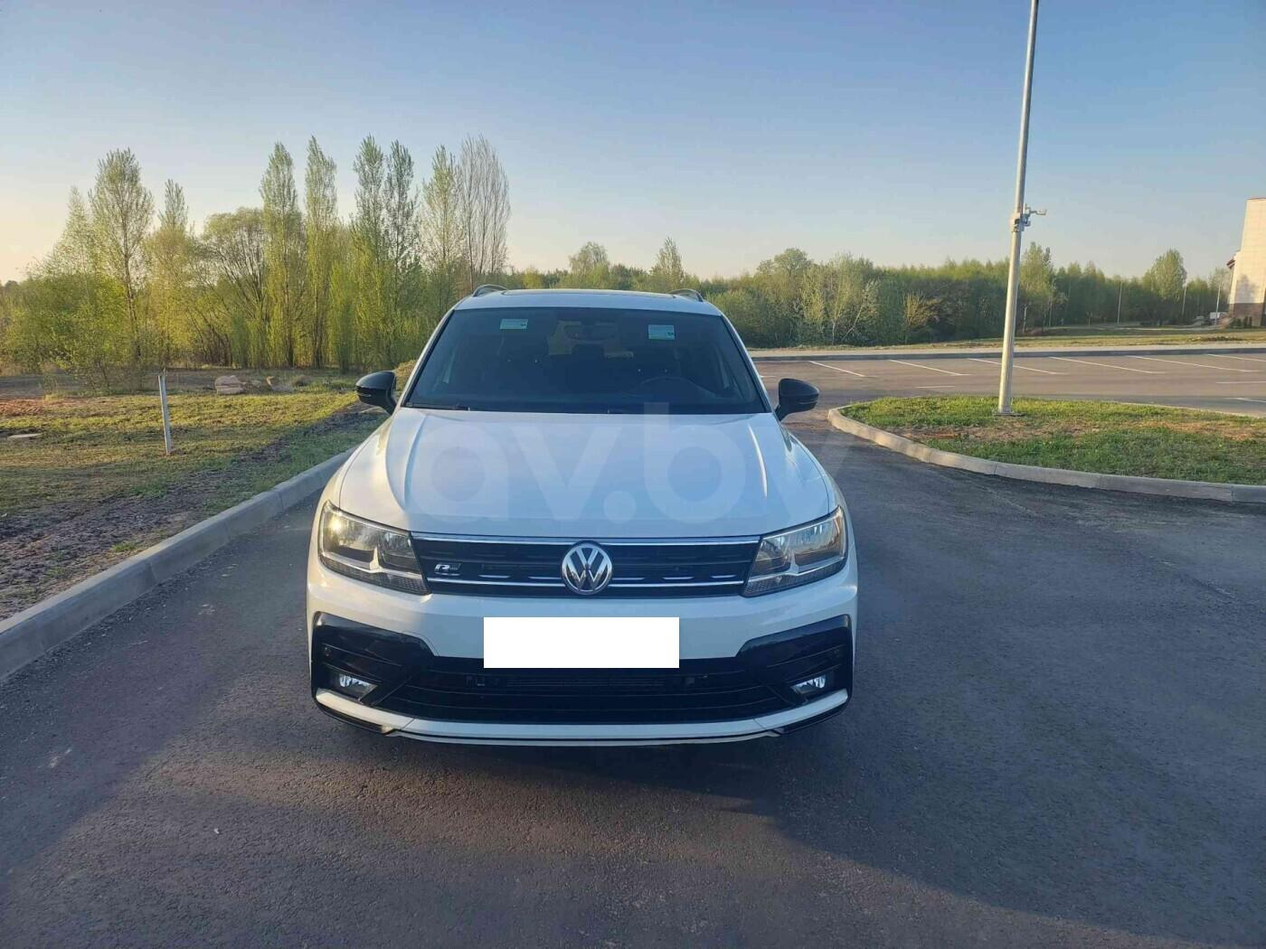Tiguan_2016-2021: (300, 281, 867, 750)
